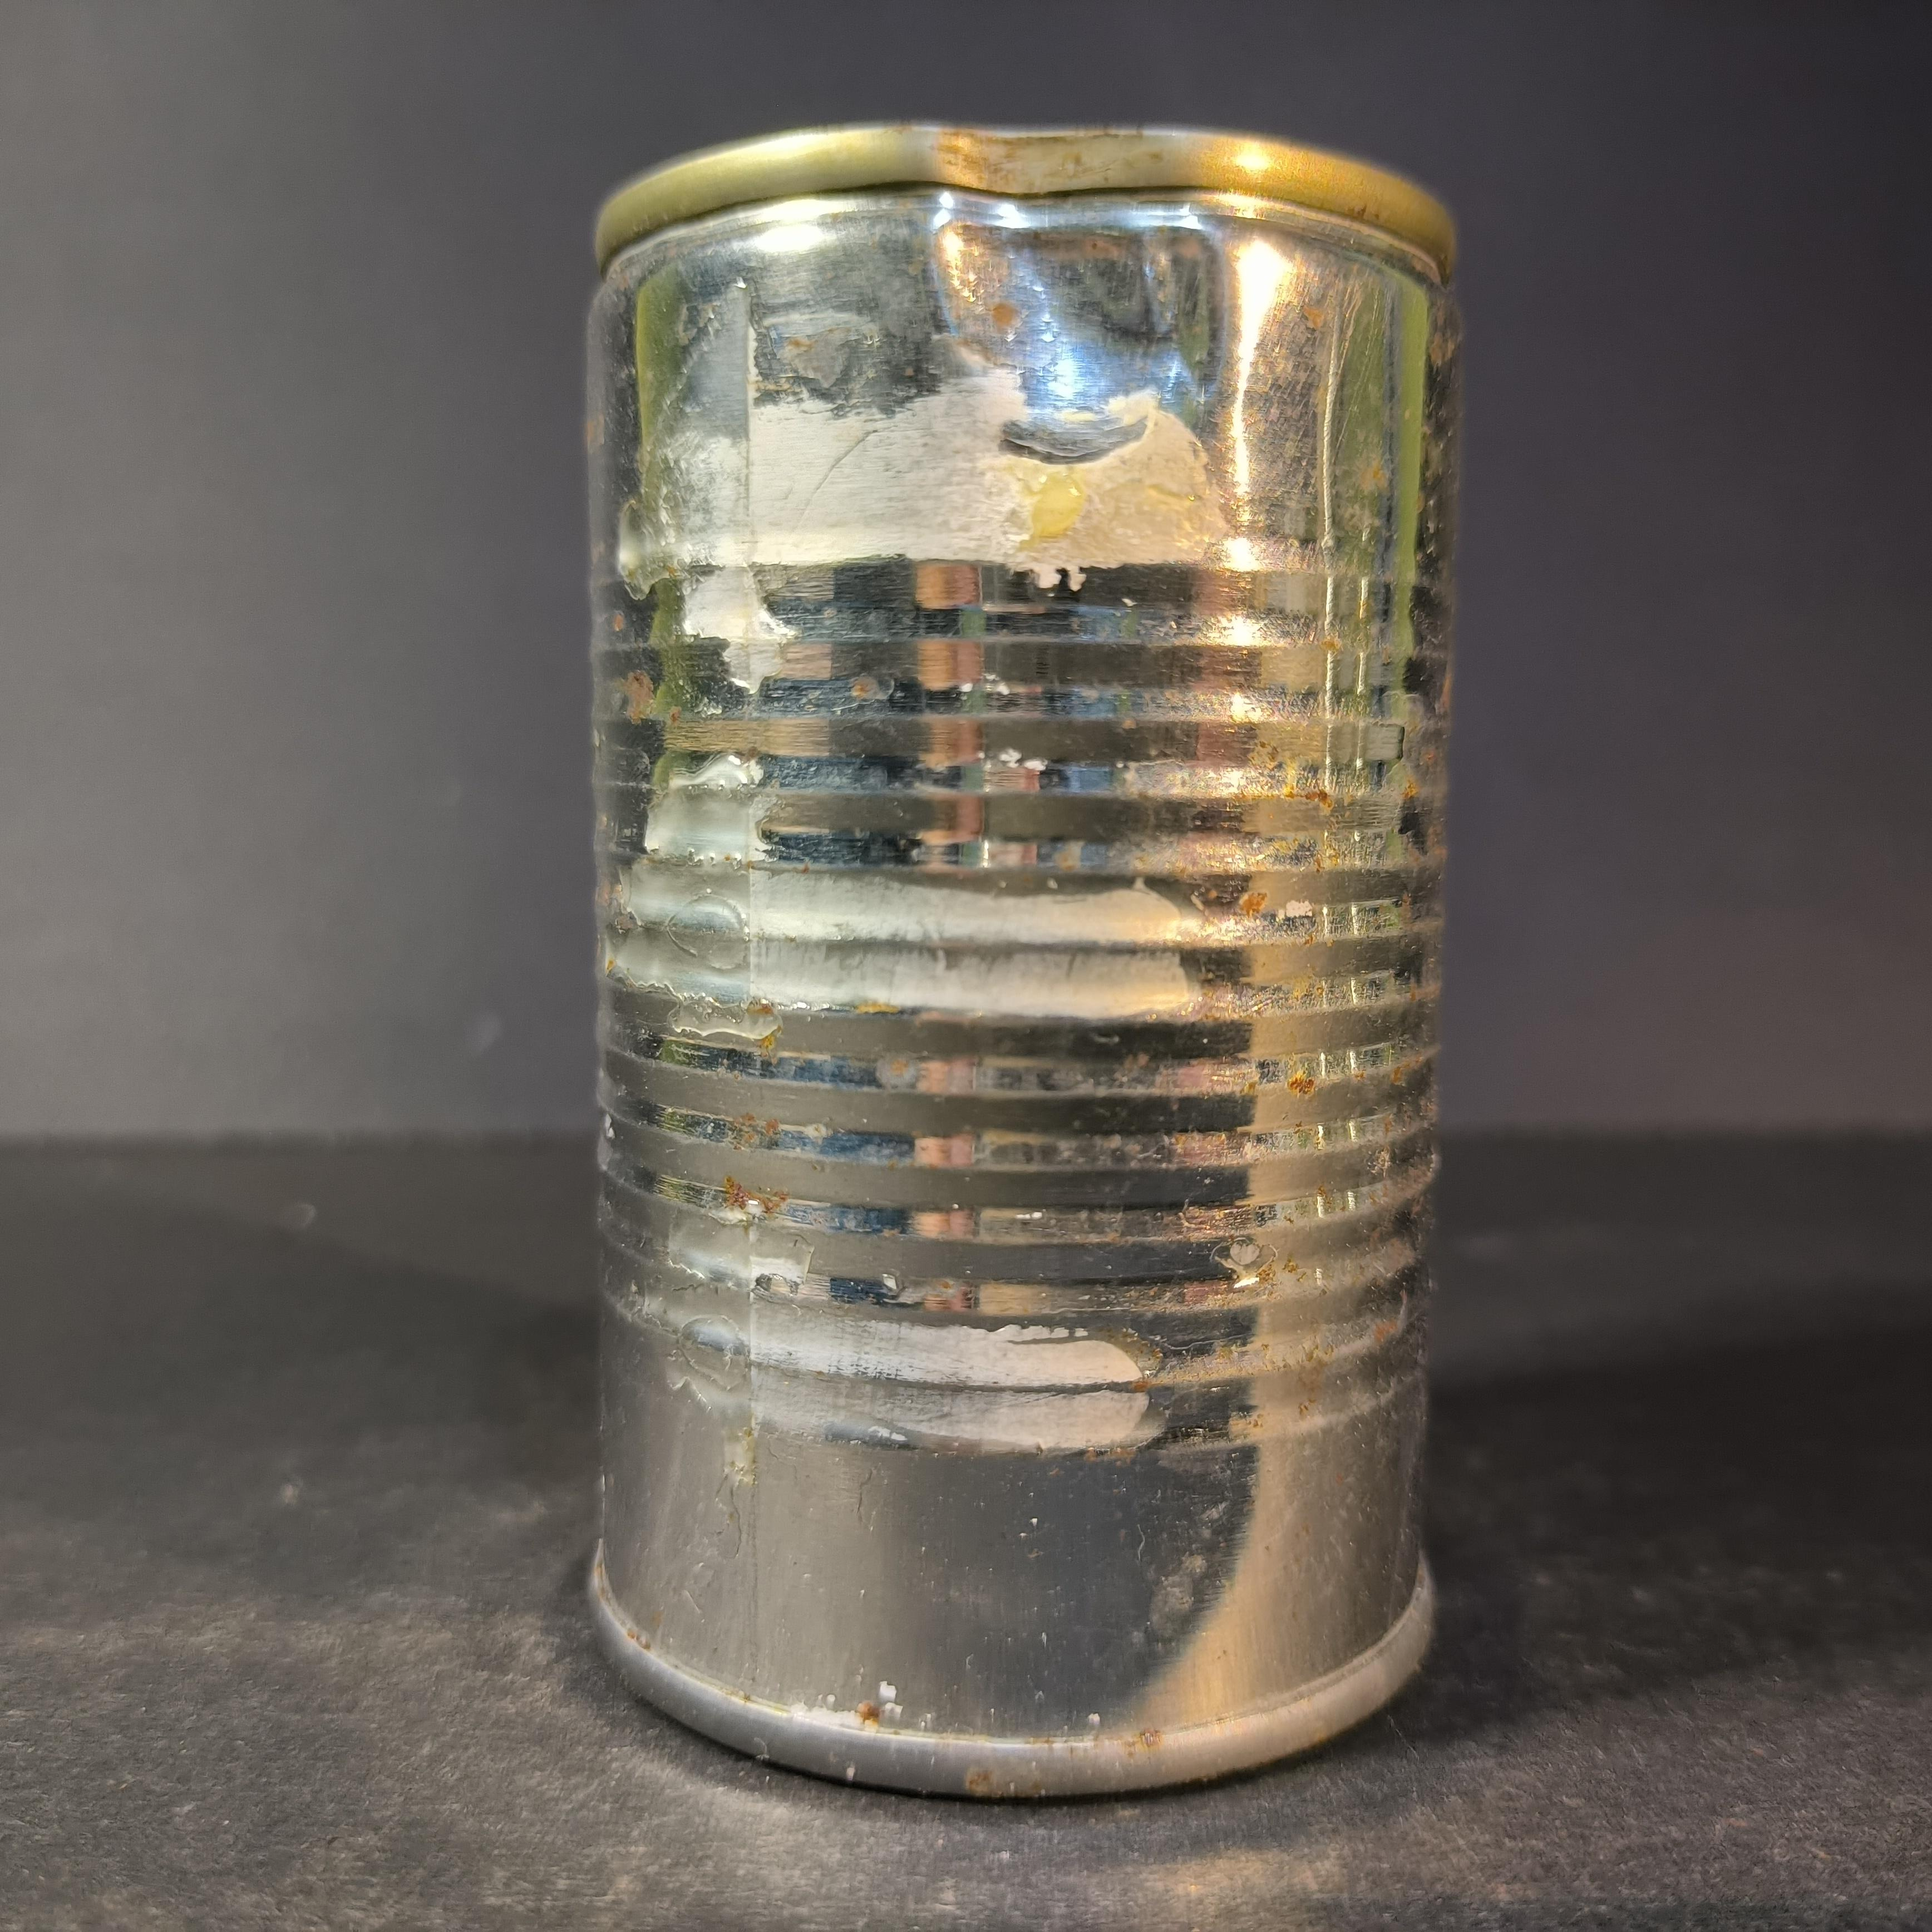Minor Defect: (588, 122, 1458, 1797)
